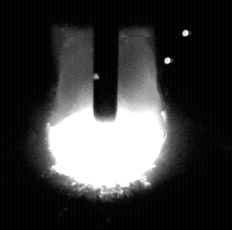arame: (94, 0, 118, 121)
poca: (47, 0, 166, 230)
